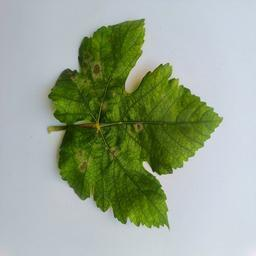Powdery-Mildew: (120, 119, 148, 157), (79, 53, 109, 84), (180, 118, 207, 152), (153, 70, 177, 107), (72, 142, 91, 172), (131, 202, 160, 221), (102, 145, 119, 162)
